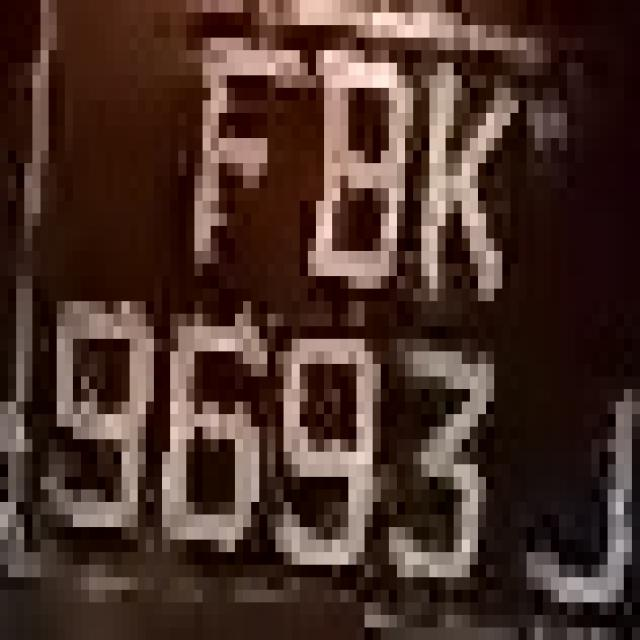3: (365, 314, 502, 590)
6: (146, 276, 275, 590)
9: (32, 251, 162, 565), (251, 301, 389, 577)
B: (284, 38, 413, 288)
F: (186, 25, 316, 264)
J: (518, 352, 632, 628)
K: (413, 50, 519, 301)
